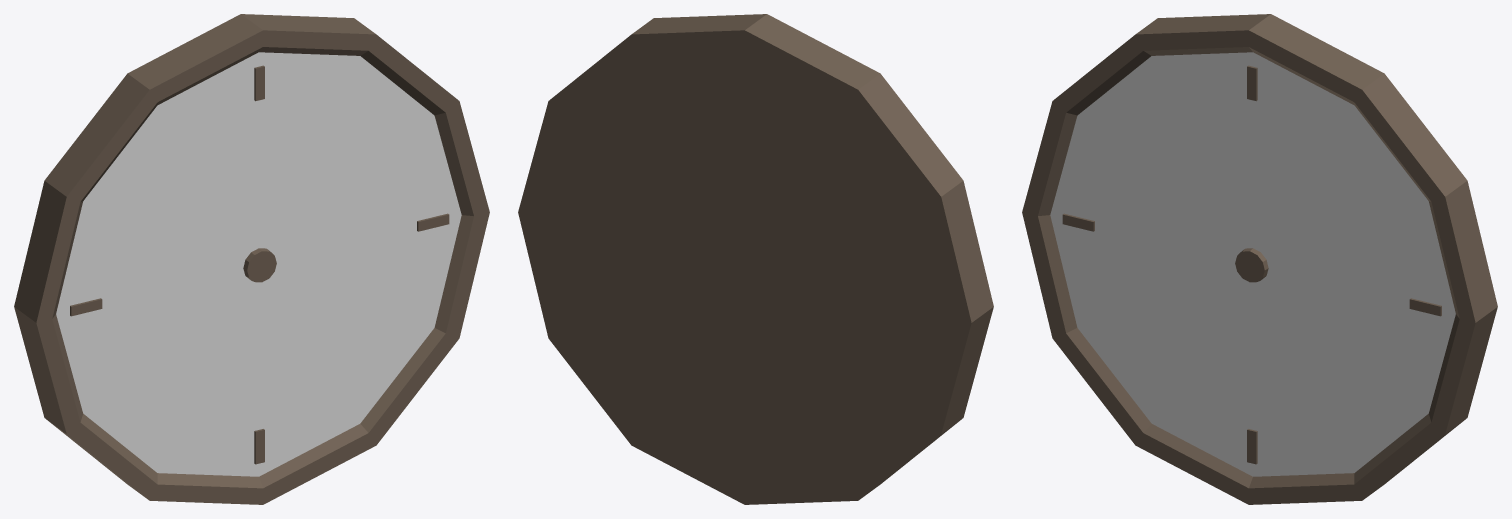
File: Clock2_C2.fbx
3 views of the same model, side by side, from view 1: azimuth 30°, elevation 25°; view 2: azimuth 150°, elevation 25°; view 3: azimuth 330°, elevation 25° (orthographic).
Visible parts, largest first — view 1: Clock2_C2; view 2: Clock2_C2; view 3: Clock2_C2.
Boxes of the visible parts, box(x1,y1,x2,y2) form: Clock2_C2: box(14, 14, 489, 504); Clock2_C2: box(518, 14, 993, 504); Clock2_C2: box(1022, 14, 1497, 504).
Bounding box in the file's own units: 36.55 × 36.55 × 3.12.
